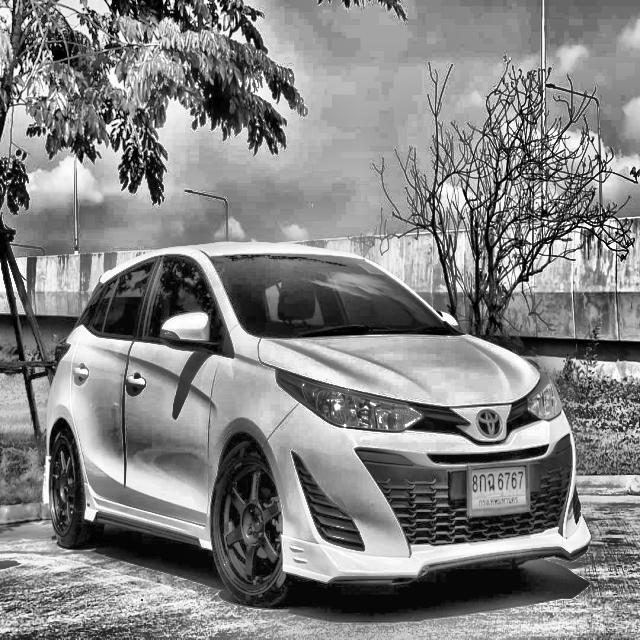license-plate: (464, 459, 532, 514)
